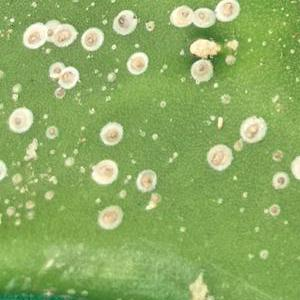Femea: (169, 6, 192, 24), (113, 12, 132, 33), (101, 125, 121, 144), (12, 112, 33, 129), (21, 28, 39, 46), (193, 6, 208, 26), (53, 27, 71, 43), (86, 30, 99, 47), (41, 21, 52, 40), (275, 175, 288, 188), (49, 64, 61, 76)
Linfa: (2, 205, 22, 226), (167, 150, 180, 165), (41, 189, 53, 202), (21, 199, 36, 208), (149, 131, 161, 140), (47, 148, 57, 155), (212, 81, 219, 89)
Macho: (216, 113, 224, 132)
